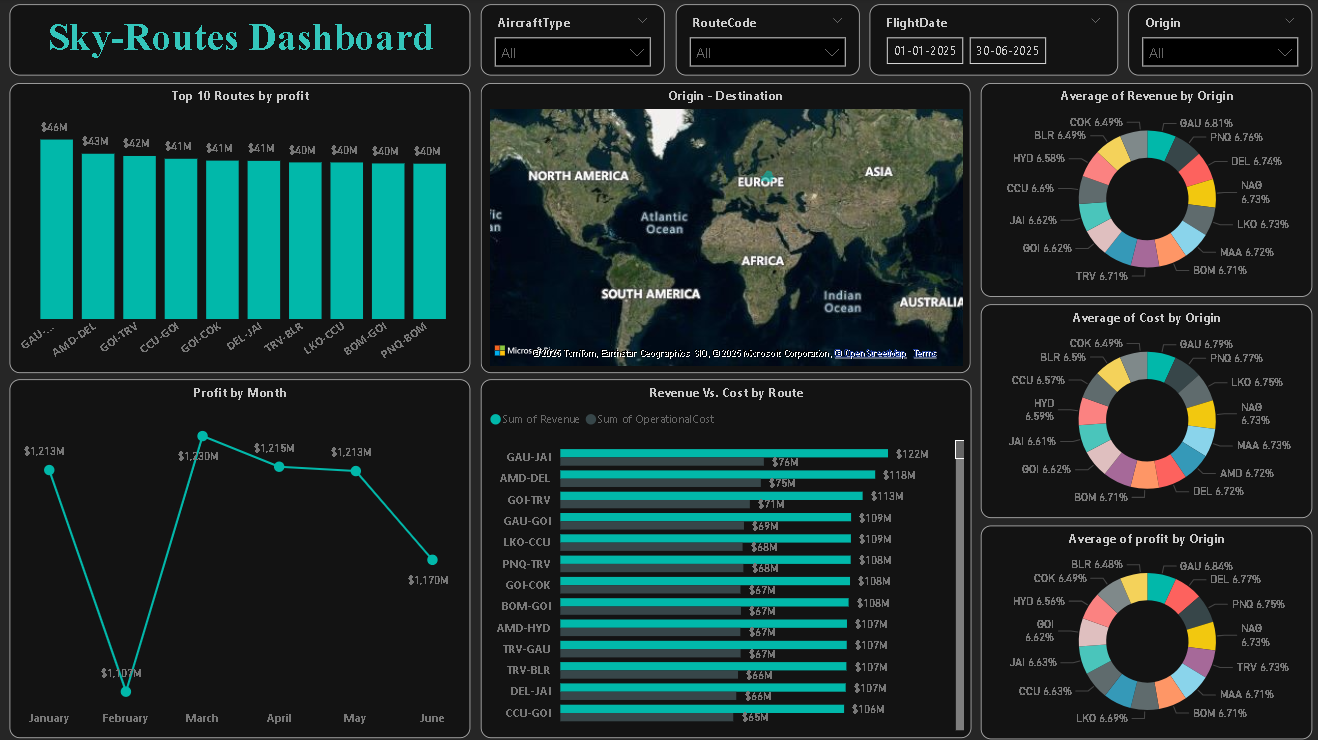

The page's visual inventory and layout, read from the dashboard file:
{"tool":"powerbi","page":{"name":"Airline_Routes_Dashboard","canvas":[1280,720],"ordinal":0},"visuals":[{"type":"columnChart","title":"Top 10 Routes by profit","fields":{"Category":["Airline_Routes_project.RouteCode"],"Y":["Sum(Airline_Routes_project.profit)"]},"box":[12.4,82.2,445,280],"z":0,"group":"g1"},{"type":"filledMap","title":"Origin - Destination","fields":{"Category":["Airline_Routes_project.Origin","Airline_Routes_project.Destination"]},"box":[467.3,82.2,472.5,280],"z":1000,"group":"g1"},{"type":"lineChart","title":"Profit by Month","fields":{"Y":["Sum(Airline_Routes_project.profit)"],"Category":["Airline_Routes_project.FlightDate.Variation.Date Hierarchy.Month"]},"box":[12.5,368.7,445,346.2],"z":2000,"group":"g1"},{"type":"donutChart","fields":{"Category":["Airline_Routes_project.Origin"],"Y":["Avg(Airline_Routes_project.Revenue)"]},"box":[949.8,82.2,320,206.2],"z":3000,"group":"g1"},{"type":"donutChart","title":"Average of Cost by Origin","fields":{"Category":["Airline_Routes_project.Origin"],"Y":["Avg(Airline_Routes_project.OperationalCost)"]},"box":[949.8,295.7,319.7,206.3],"z":4000,"group":"g1"},{"type":"donutChart","fields":{"Category":["Airline_Routes_project.Origin"],"Y":["Avg(Airline_Routes_project.profit)"]},"box":[950,508.7,320,206.2],"z":5000,"group":"g1"},{"type":"clusteredBarChart","title":"Revenue Vs. Cost by Route","fields":{"Category":["Airline_Routes_project.RouteCode"],"Y":["Sum(Airline_Routes_project.Revenue)","Sum(Airline_Routes_project.OperationalCost)"]},"box":[467.5,368.7,473.8,346.2],"z":6000,"group":"g1"},{"type":"slicer","fields":{"Values":["Airline_Routes_project.AircraftType"]},"box":[467.5,6.2,177.5,68.8],"z":7000,"group":"g1"},{"type":"slicer","fields":{"Values":["Airline_Routes_project.RouteCode"]},"box":[655,6.2,177.5,68.8],"z":8000,"group":"g1"},{"type":"slicer","fields":{"Values":["Airline_Routes_project.FlightDate Hierarchy.FlightDate"]},"box":[842.5,6.2,240,68.8],"z":9000,"group":"g1"},{"type":"slicer","fields":{"Values":["Airline_Routes_project.Origin"]},"box":[1092.5,6.2,177.5,68.8],"z":10000,"group":"g1"},{"type":"textbox","box":[12.5,6.2,445,68.8],"z":11000,"group":"g1"},{"type":"group","id":"g1","title":"Group 1","box":[12.4,6.2,1257.6,708.8],"z":11001}]}

Visuals, with their boxes in screenshot pixels (x1, y1, x2, y2), scaled from the page's 1280x720 canvas onto the 1318x740 screenshot:
"Top 10 Routes by profit" columnChart: {"x1": 13, "y1": 84, "x2": 471, "y2": 372}
"Origin - Destination" filledMap: {"x1": 481, "y1": 84, "x2": 968, "y2": 372}
"Profit by Month" lineChart: {"x1": 13, "y1": 379, "x2": 471, "y2": 735}
donutChart - Airline_Routes_project.Origin x Avg(Airline_Routes_project.Revenue): {"x1": 978, "y1": 84, "x2": 1307, "y2": 296}
"Average of Cost by Origin" donutChart: {"x1": 978, "y1": 304, "x2": 1307, "y2": 516}
donutChart - Airline_Routes_project.Origin x Avg(Airline_Routes_project.profit): {"x1": 978, "y1": 523, "x2": 1308, "y2": 735}
"Revenue Vs. Cost by Route" clusteredBarChart: {"x1": 481, "y1": 379, "x2": 969, "y2": 735}
slicer - Airline_Routes_project.AircraftType: {"x1": 481, "y1": 6, "x2": 664, "y2": 77}
slicer - Airline_Routes_project.RouteCode: {"x1": 674, "y1": 6, "x2": 857, "y2": 77}
slicer - Airline_Routes_project.FlightDate Hierarchy.FlightDate: {"x1": 868, "y1": 6, "x2": 1115, "y2": 77}
slicer - Airline_Routes_project.Origin: {"x1": 1125, "y1": 6, "x2": 1308, "y2": 77}
textbox: {"x1": 13, "y1": 6, "x2": 471, "y2": 77}
"Group 1" group: {"x1": 13, "y1": 6, "x2": 1308, "y2": 735}
